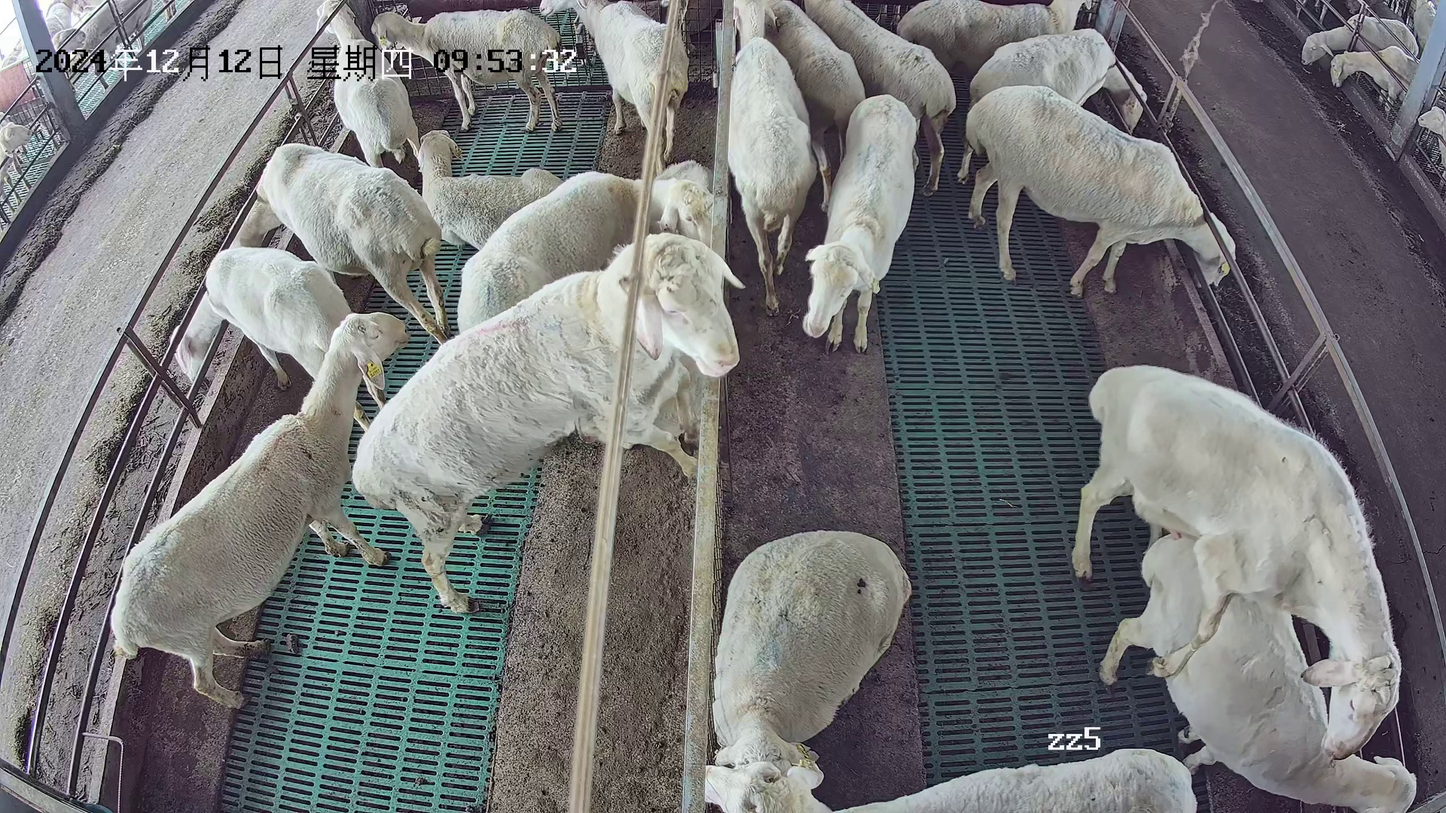Smounting: (1070, 362, 1423, 813)
mounted: (1097, 531, 1419, 813)
